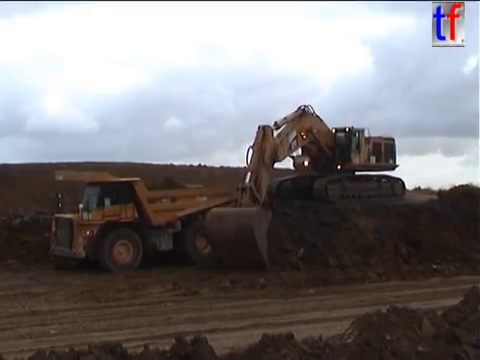excavator: (202, 102, 408, 273)
truck: (47, 167, 239, 274)
